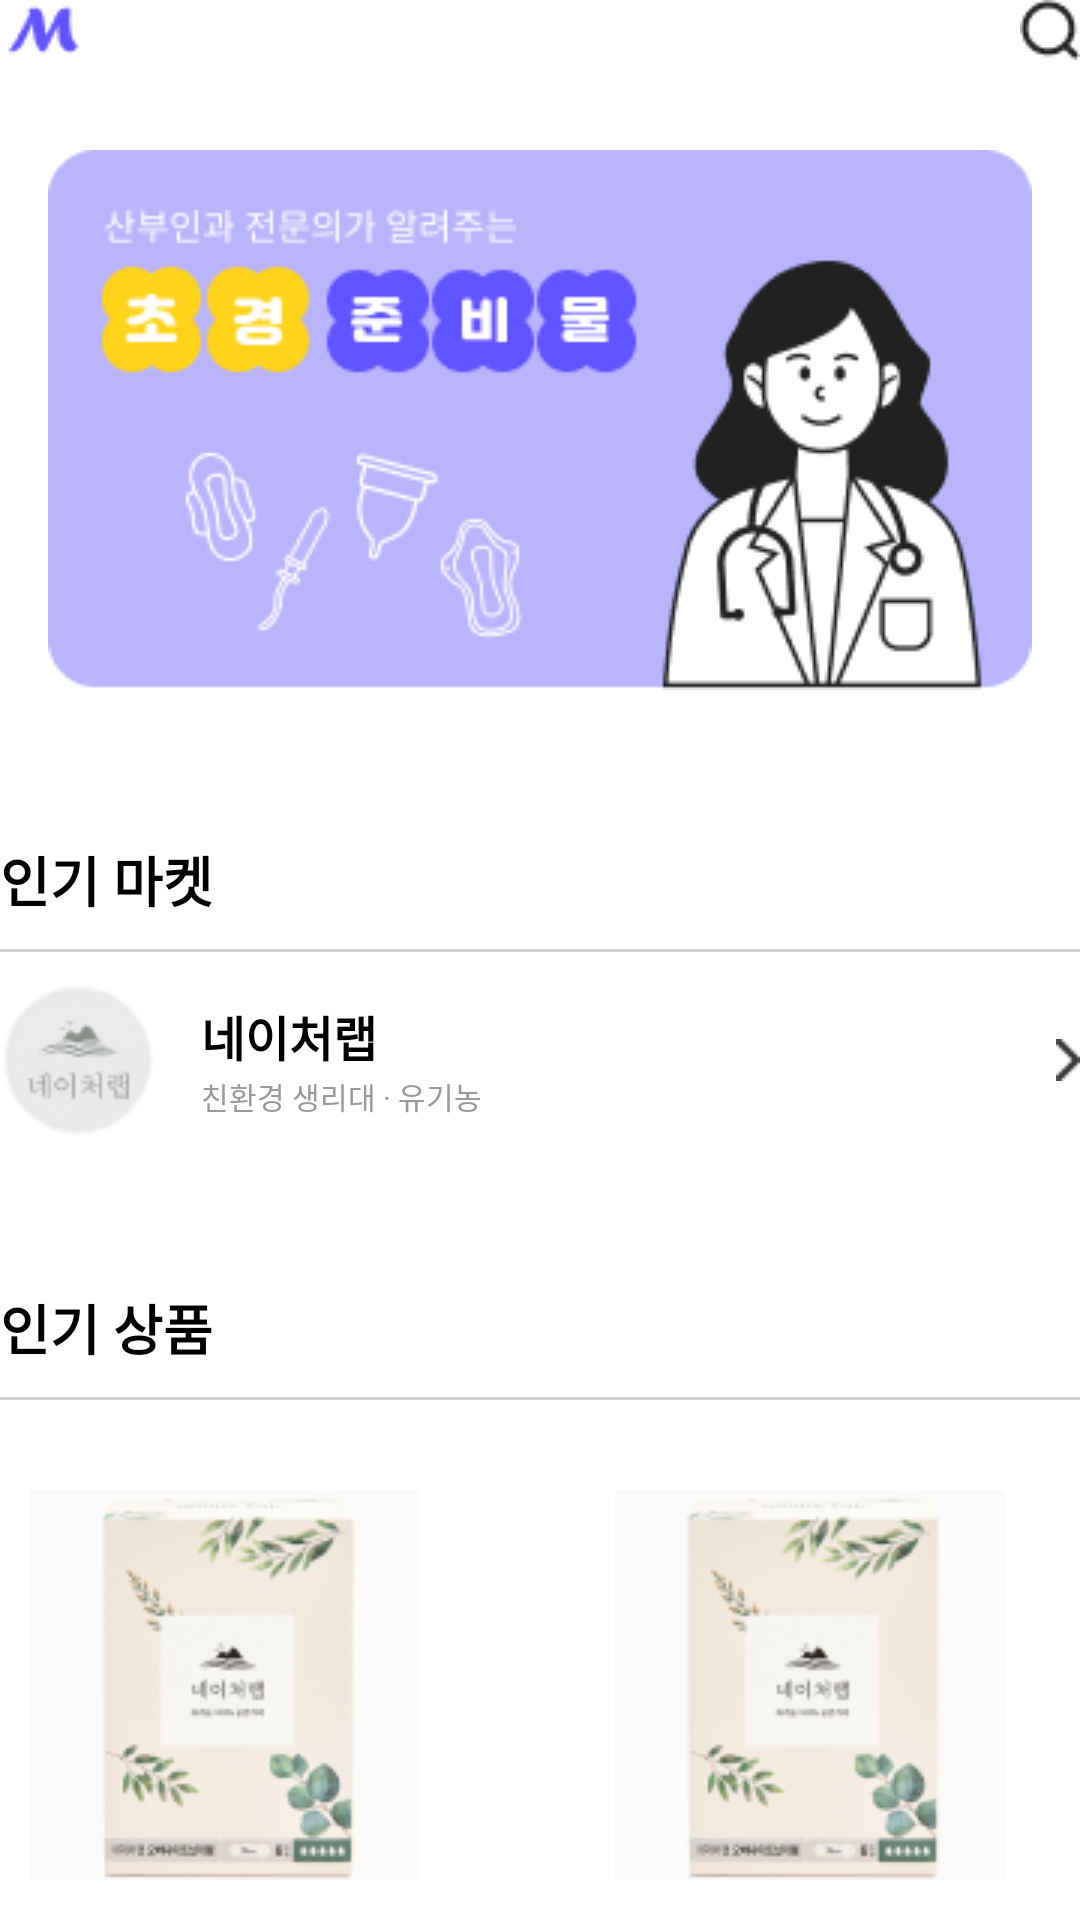

Icons on this 1080*1920 Android screen, each with the point to tap as (x=x, y=y):
search: (x=1050, y=30)
